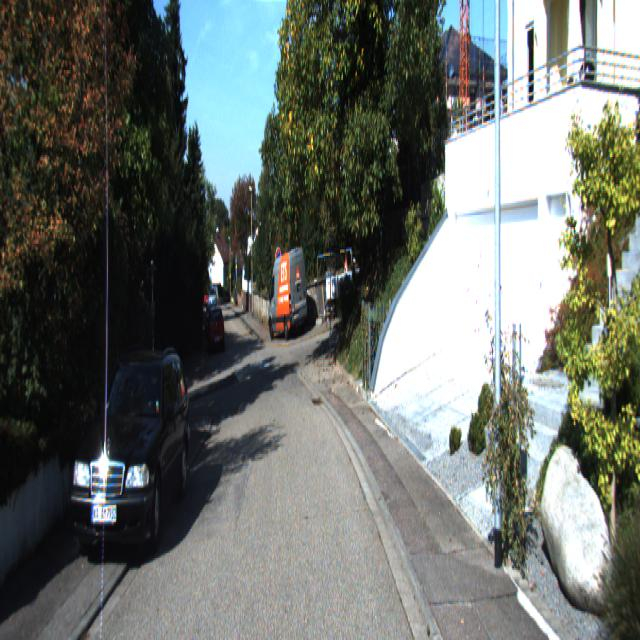Car: (66, 340, 195, 571), (268, 243, 310, 337), (207, 304, 226, 356)
